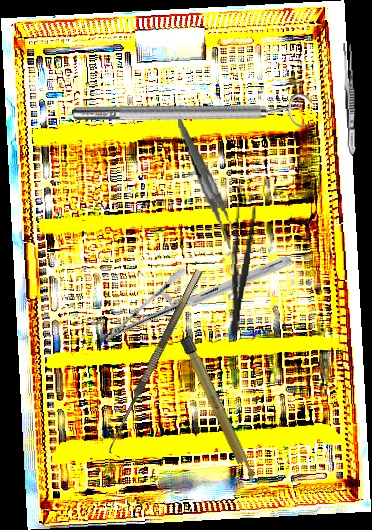Dressing Forceps: (177, 114, 241, 253), (223, 192, 258, 336), (341, 42, 358, 156)
Fixation Ring: (73, 93, 312, 130)
Hook Surgical: (103, 268, 213, 459)
Needle Holder: (99, 195, 295, 403)
Scalpel Handle: (178, 333, 259, 488)
